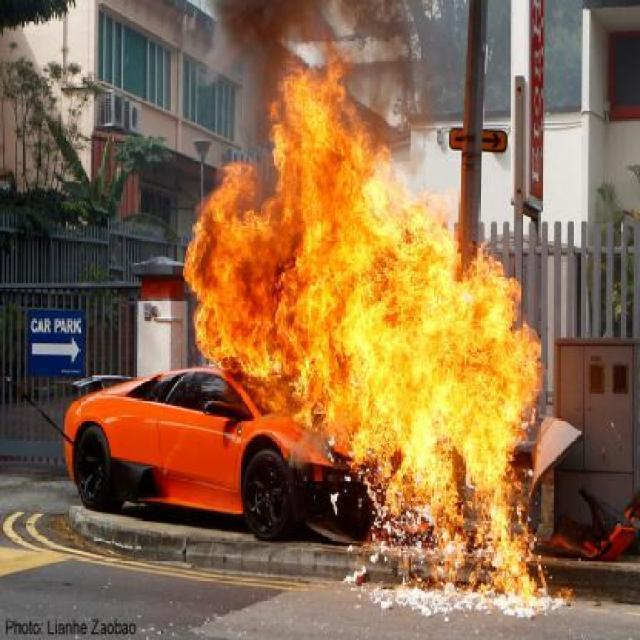Fire: (184, 68, 539, 420), (339, 418, 527, 594)
